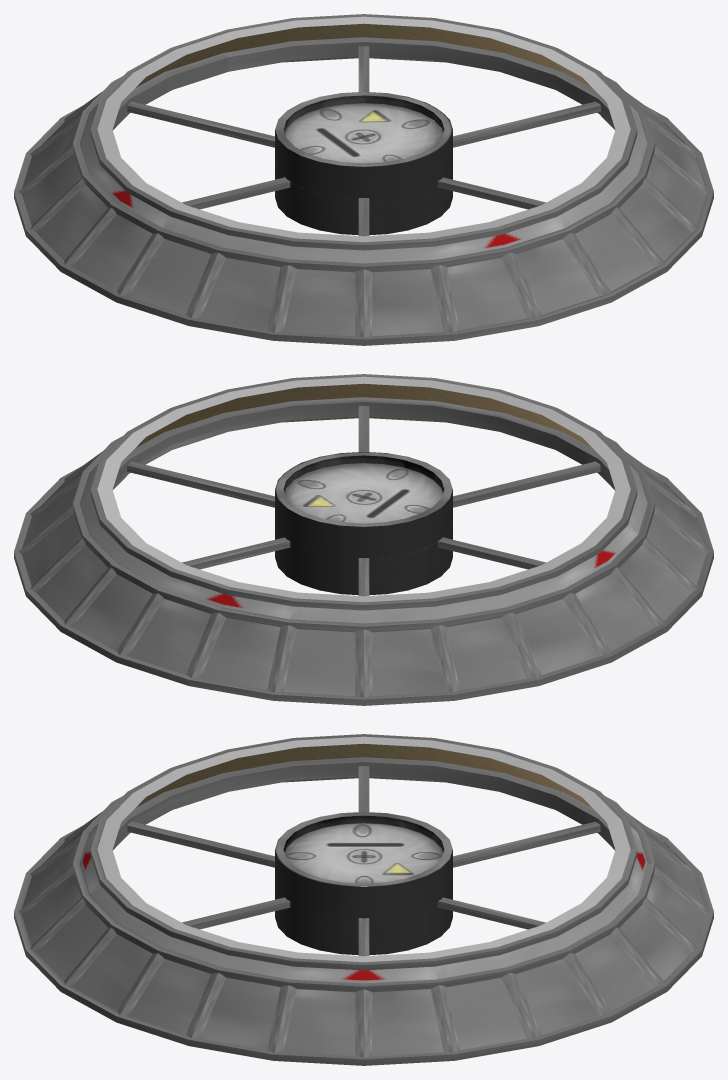
The picture shows the model from 3 angles, top to bottom: view 1: azimuth 30°, elevation 25°; view 2: azimuth 150°, elevation 25°; view 3: azimuth 270°, elevation 25°; orthographic projection.
Visible parts, largest first — view 1: Adapter1825, Cylinder047, Tube003, Tube004, Tube006, Tube005, Cylinder046, Box108, Box110, Bracer011, Bracer010, Bracer012 (+9 smaller); view 2: Adapter1825, Cylinder047, Tube003, Tube004, Tube006, Tube005, Cylinder046, Box108, Box109, Bracer003, Bracer004, Bracer002 (+9 smaller); view 3: Adapter1825, Cylinder047, Tube003, Tube004, Tube006, Tube005, Cylinder046, Box109, Box110, Bracer019, Bracer018, Bracer020 (+9 smaller).
Boxes of the visible parts, bbox=[...] form: Adapter1825: bbox=[22, 16, 705, 336]; Cylinder047: bbox=[275, 92, 452, 198]; Tube003: bbox=[112, 37, 615, 130]; Tube004: bbox=[14, 106, 713, 345]; Tube006: bbox=[90, 14, 637, 250]; Tube005: bbox=[72, 76, 655, 272]; Cylinder046: bbox=[275, 161, 452, 235]; Box108: bbox=[182, 101, 600, 209]; Box110: bbox=[127, 101, 545, 209]; Bracer011: bbox=[355, 269, 372, 337]; Bracer010: bbox=[267, 265, 296, 332]; Bracer012: bbox=[430, 265, 459, 332]; Adapter1825: bbox=[22, 376, 705, 696]; Cylinder047: bbox=[275, 452, 452, 558]; Tube003: bbox=[112, 397, 615, 490]; Tube004: bbox=[14, 466, 713, 705]; Tube006: bbox=[90, 374, 637, 610]; Tube005: bbox=[72, 436, 655, 632]; Cylinder046: bbox=[275, 521, 452, 595]; Box108: bbox=[127, 461, 545, 569]; Box109: bbox=[182, 461, 600, 569]; Bracer003: bbox=[355, 629, 372, 697]; Bracer004: bbox=[430, 625, 459, 692]; Bracer002: bbox=[267, 625, 296, 692]; Adapter1825: bbox=[22, 736, 705, 1056]; Cylinder047: bbox=[275, 812, 452, 918]; Tube003: bbox=[112, 757, 615, 850]; Tube004: bbox=[14, 827, 713, 1065]; Tube006: bbox=[90, 734, 637, 970]; Tube005: bbox=[72, 796, 655, 992]; Cylinder046: bbox=[275, 882, 452, 955]; Box109: bbox=[127, 821, 545, 929]; Box110: bbox=[182, 821, 600, 929]; Bracer019: bbox=[355, 989, 372, 1057]; Bracer018: bbox=[267, 985, 296, 1052]; Bracer020: bbox=[430, 985, 459, 1052].
Size of what is drawn, in the model's own units: 2.5 by 0.2705 by 2.5.
